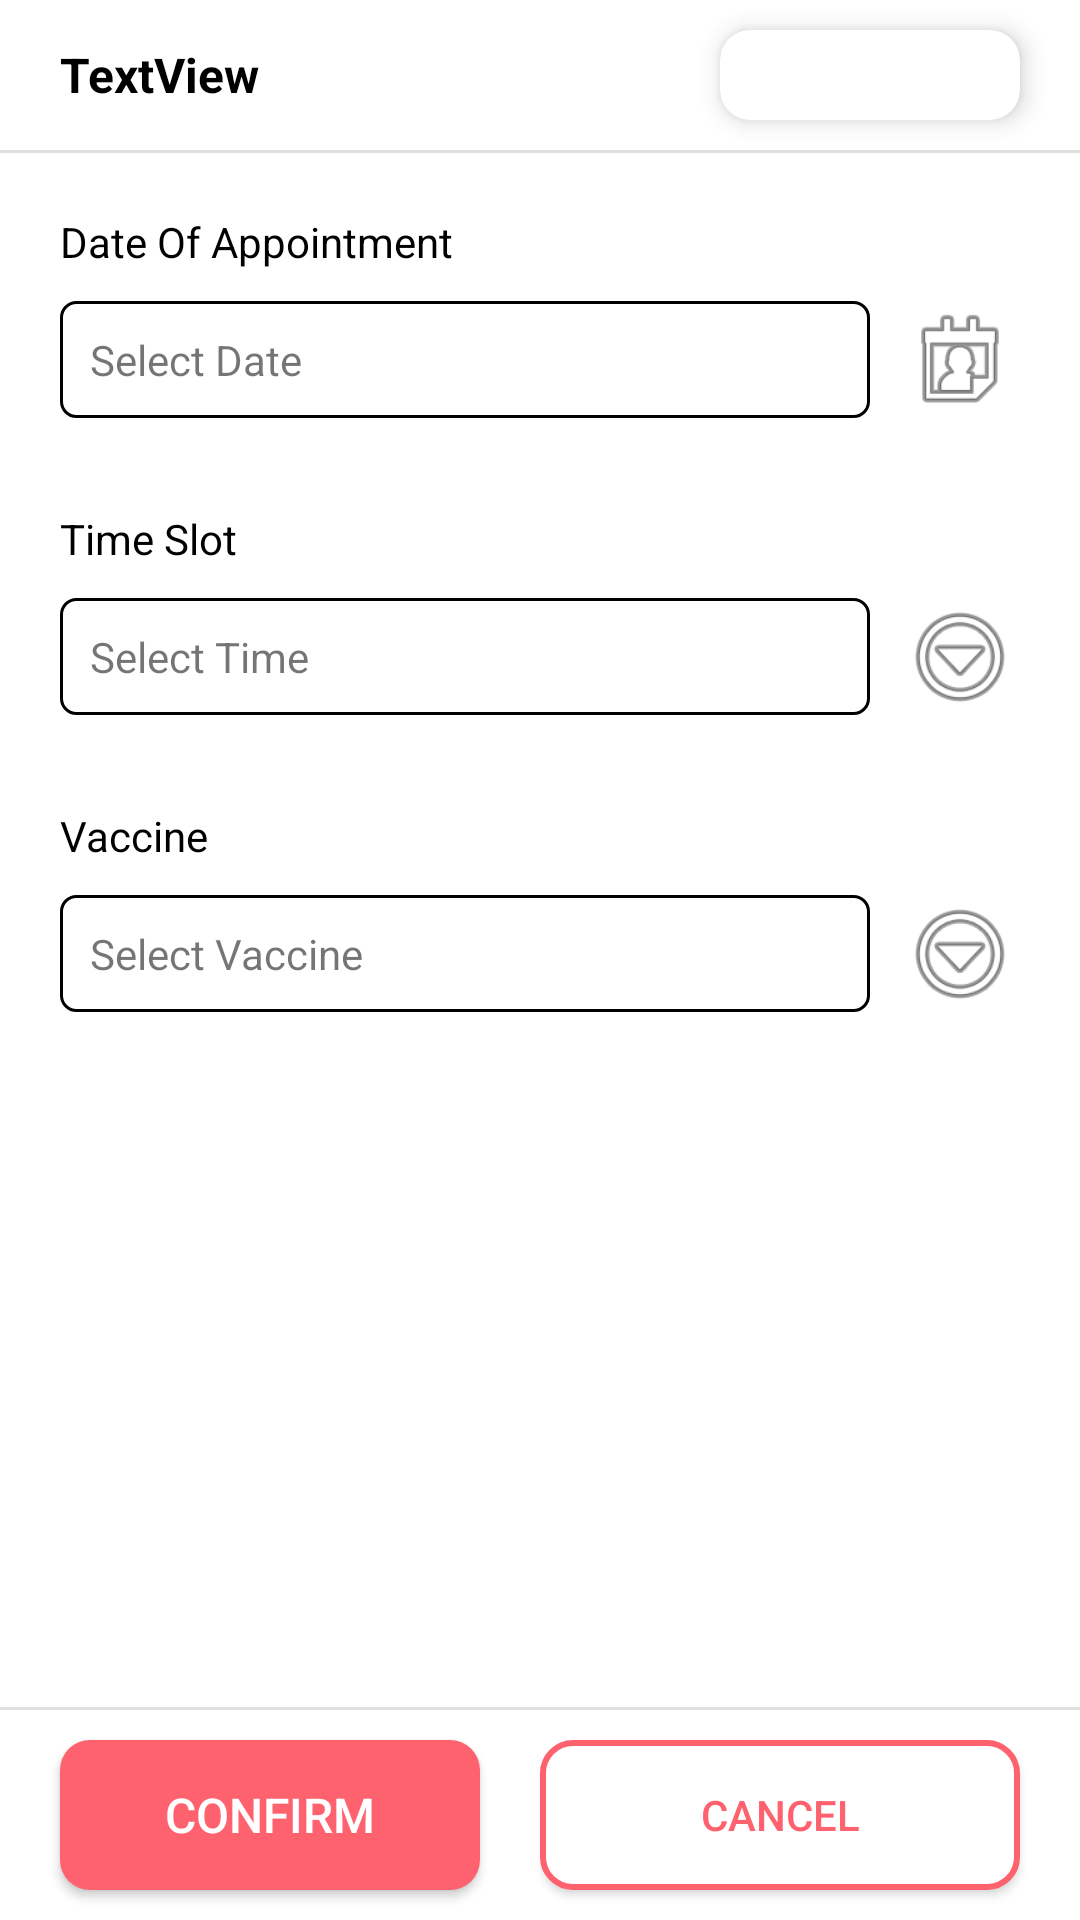

Named icons in this screenshot (1080w x 1920h) and their centers, [x,y]:
calendar: [960,359]
